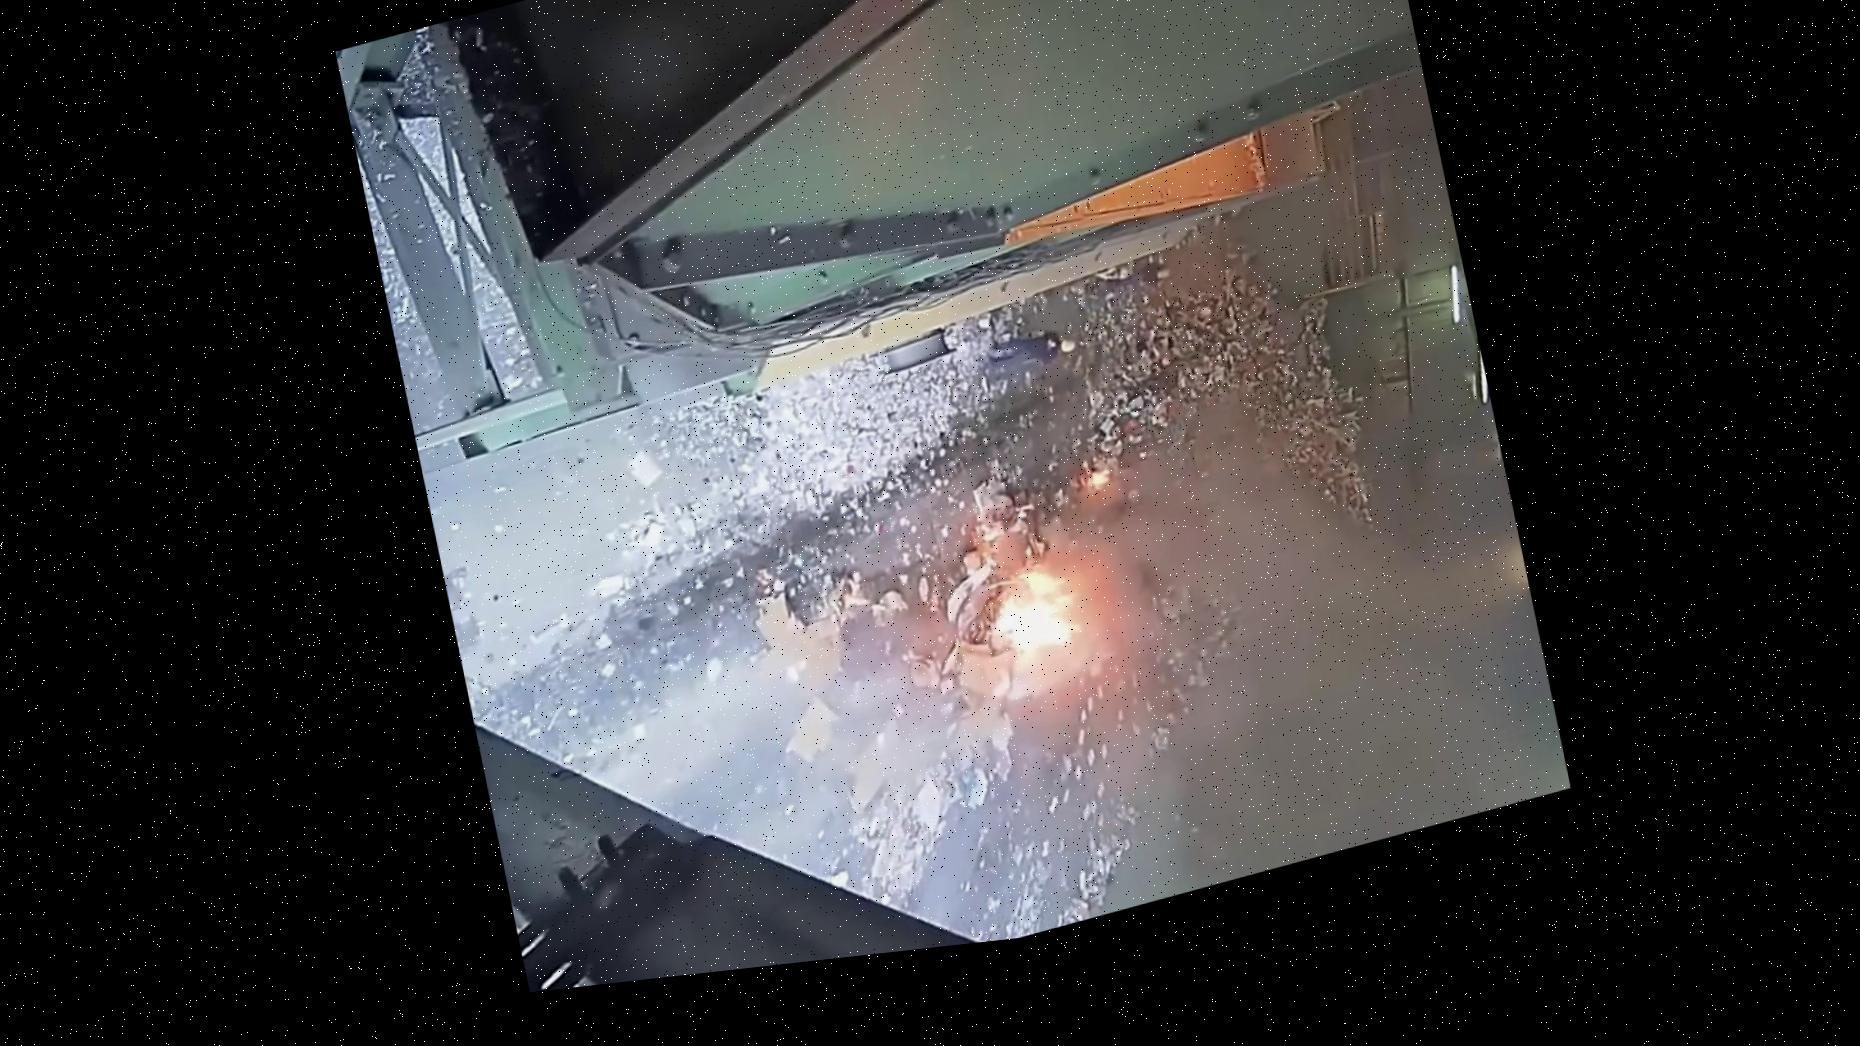fire: (834, 423, 1192, 739)
